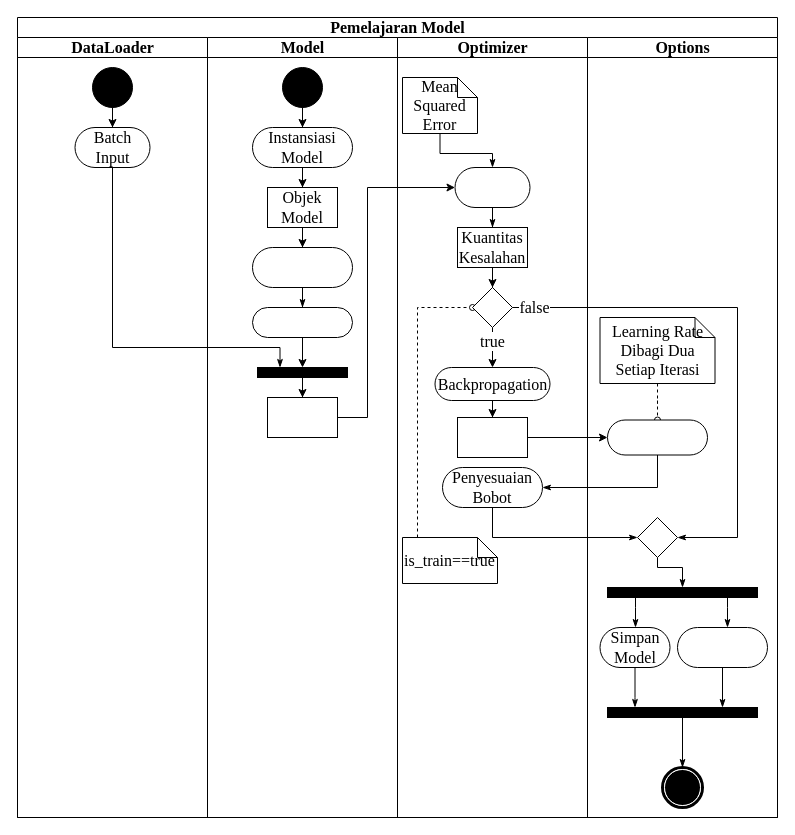
This 795x835 diagram has some shape labels left out. The centre of each missing label's shape, as x and y in pixels:
Forward-Pass: pixel 302 322
Fungsi Kesalahan: pixel 492 187
Gradien Bobot: pixel 492 437
Hasil Prediksi: pixel 302 417
Inisialisasi Bobot: pixel 302 267
Set Learning Rate: pixel 657 437
Simpan Kesalahan: pixel 722 647
